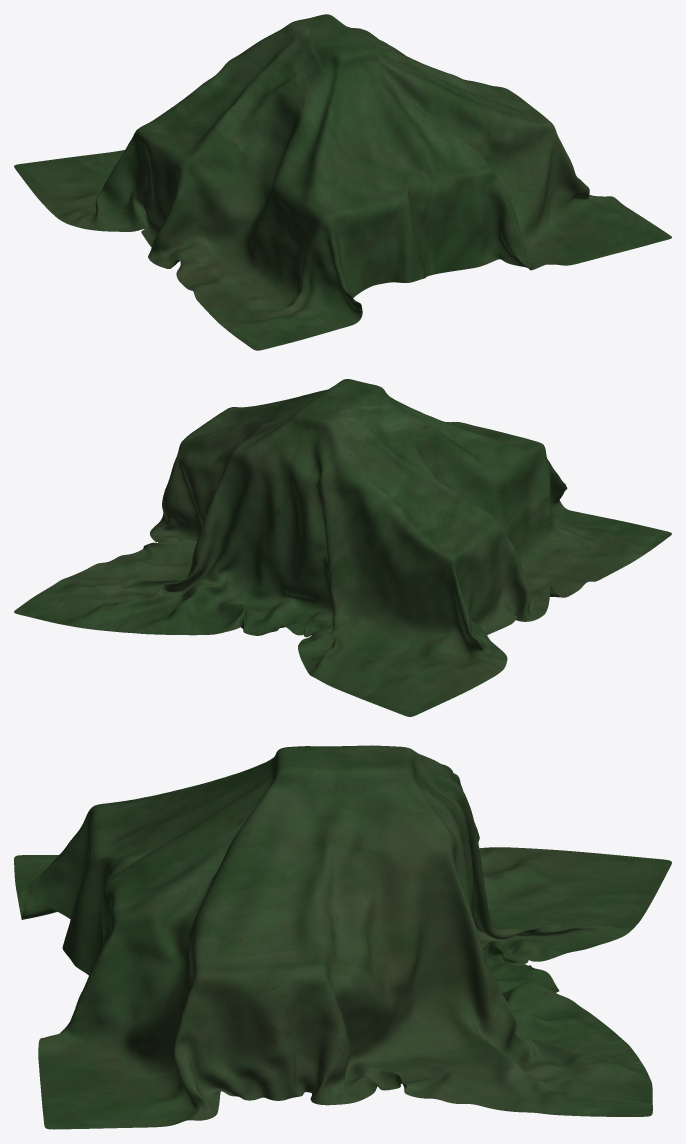
File: Tarp4.glb
The picture shows the model from 3 angles, top to bottom: view 1: azimuth 30°, elevation 25°; view 2: azimuth 150°, elevation 25°; view 3: azimuth 270°, elevation 25°; orthographic projection. The views are drawn at different scales.
Parts seen in each view (by area): view 1: Plane.001; view 2: Plane.001; view 3: Plane.001.
Part boxes in pixels (x1=…): Plane.001: x1=14, y1=14, x2=671, y2=350; Plane.001: x1=14, y1=379, x2=671, y2=716; Plane.001: x1=14, y1=745, x2=671, y2=1129.
Size of the model in its own units: 6.81 by 2.57 by 6.7.
1 material, 1 textured.
